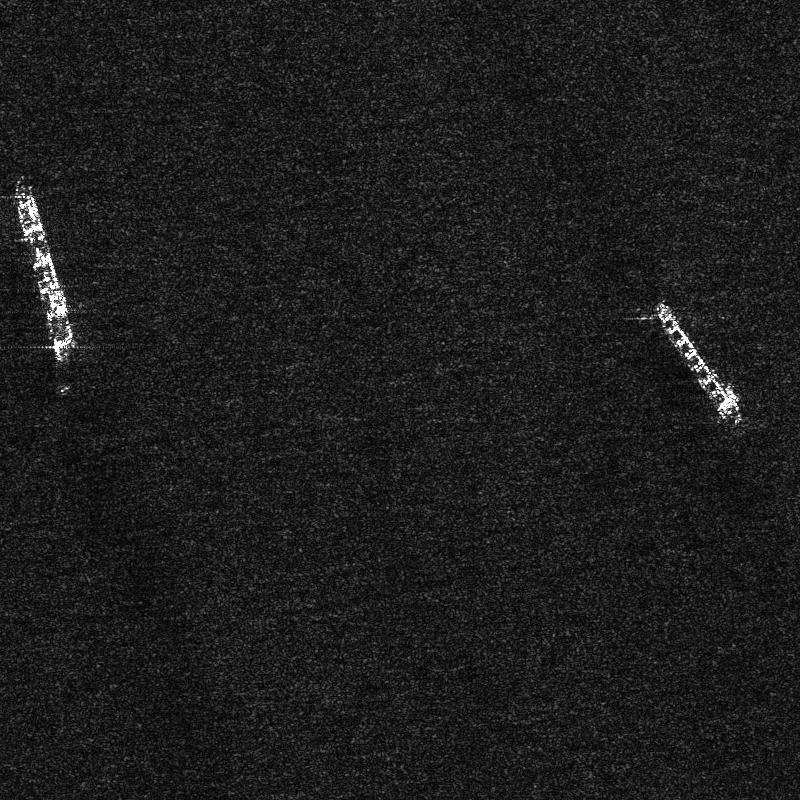ship: (16, 175, 77, 361), (655, 302, 741, 423)
